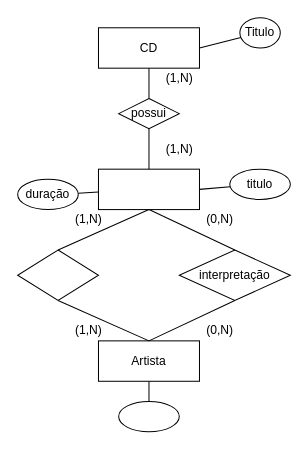
Some shapes in this 308 by 449 pixel diagram are drawn without their labels. Here are the shapes that lost their labels. From the top down, the centre of each, then its label:
[148,189]: Música
[57,274]: composição
[148,416]: nome
